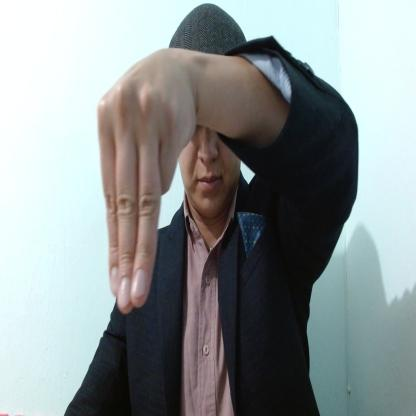M: (97, 49, 198, 309)
